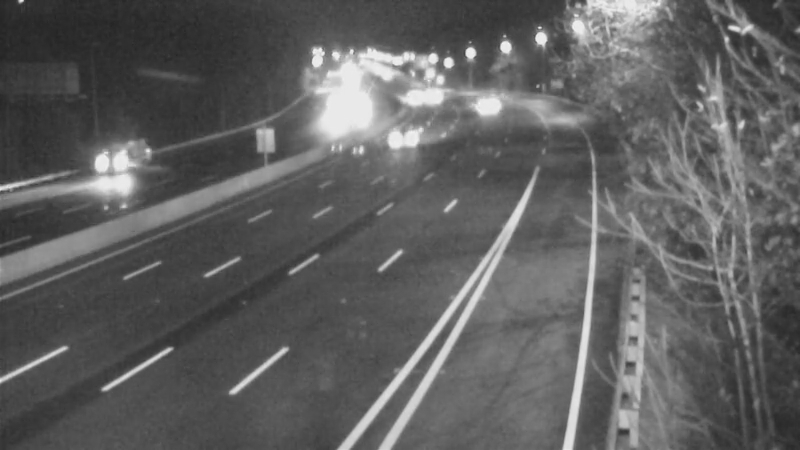vehicle: (79, 127, 159, 207), (415, 71, 465, 121), (390, 70, 440, 120), (461, 82, 511, 132), (381, 110, 431, 160), (304, 99, 354, 149)
